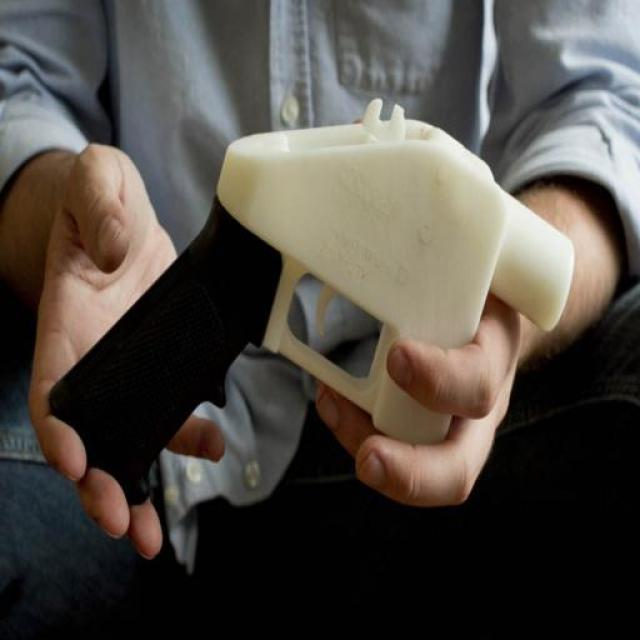pistol: (47, 97, 575, 516)
